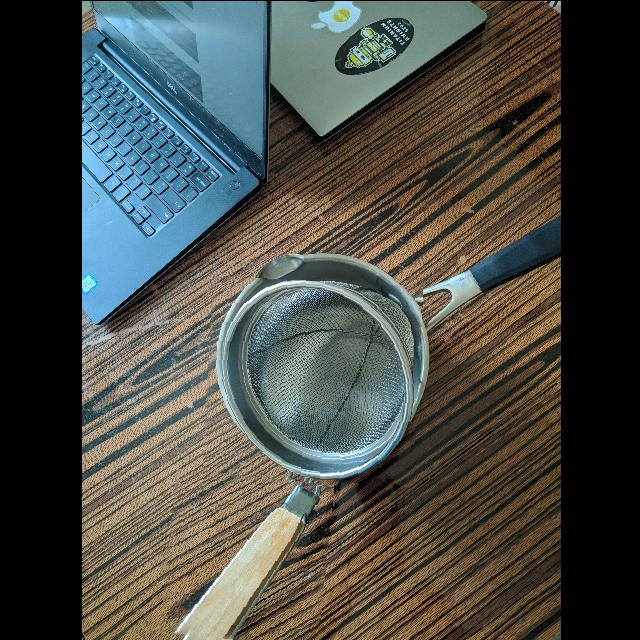Handle: (159, 480, 333, 640)
Strainer: (208, 281, 415, 479)
